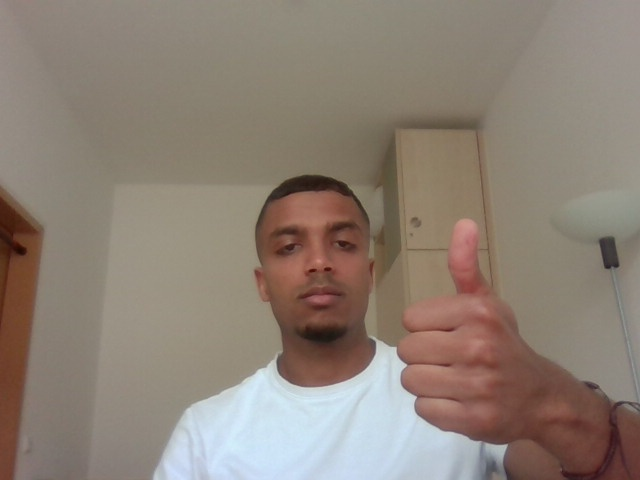yes: (394, 210, 567, 466)
